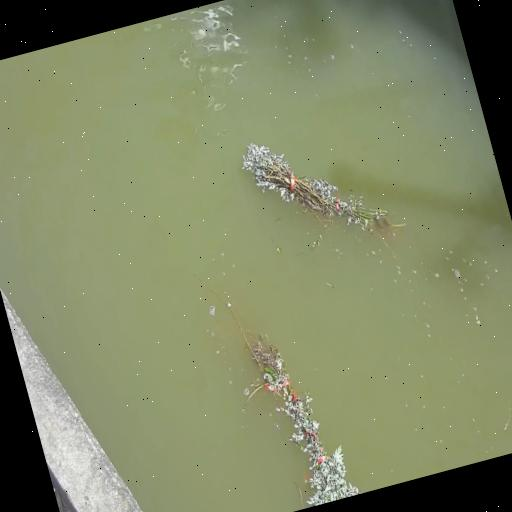twig: (191, 244, 363, 512), (234, 106, 421, 292)
